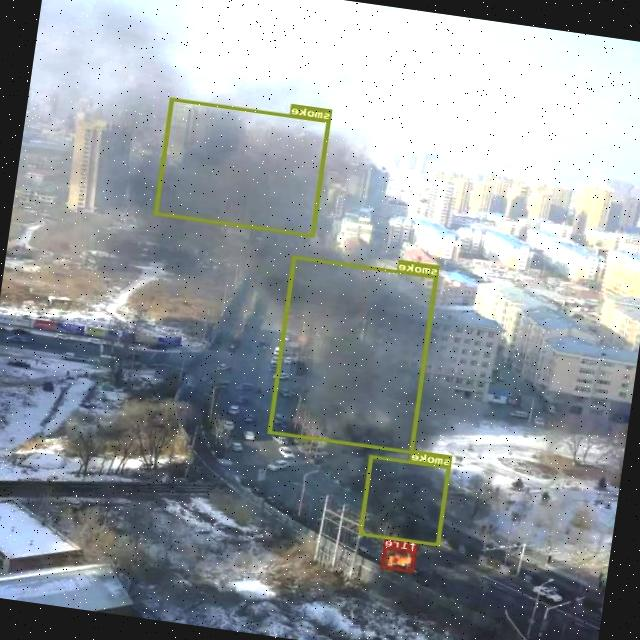fire: (381, 546, 418, 573)
smoke: (269, 256, 439, 454), (155, 98, 331, 236), (359, 455, 452, 546)
